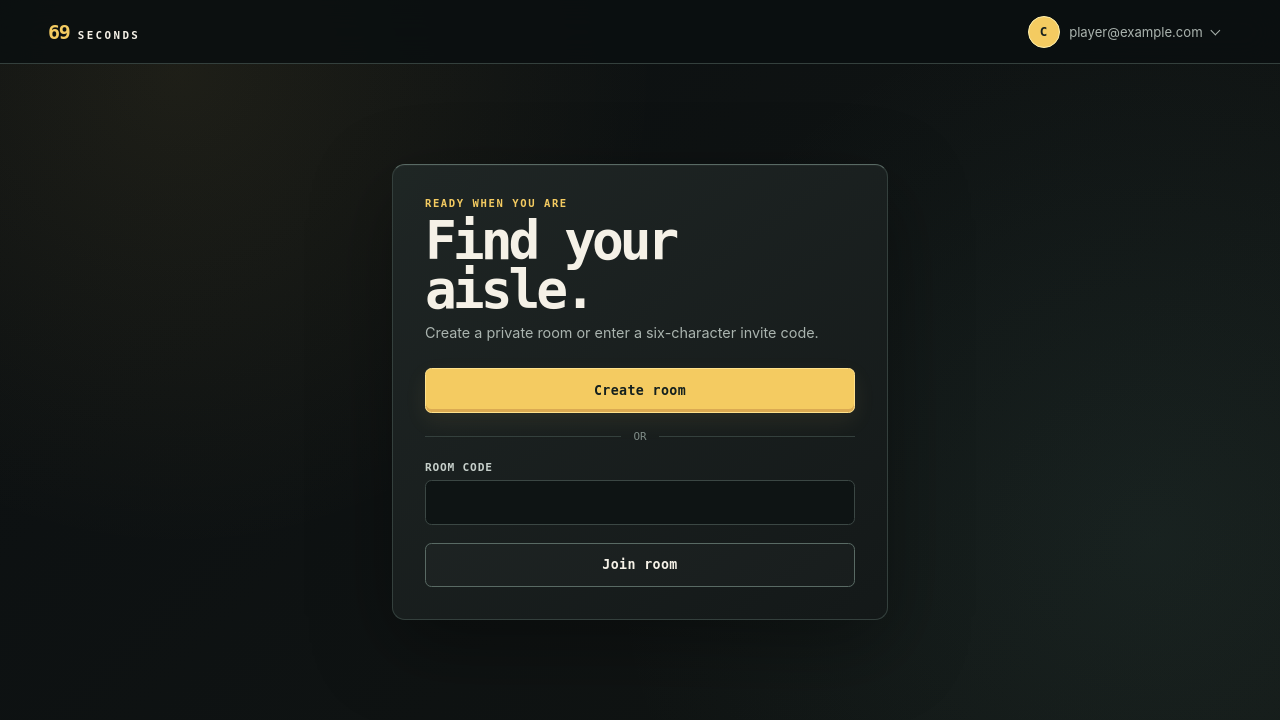
authentication application › logs out from the account menu
Expected: the button "Create room" is shown, [425, 368, 855, 413]
Click the button with aria-label "Account menu". click: point(1126, 32)
box: [1021, 9, 1232, 54]
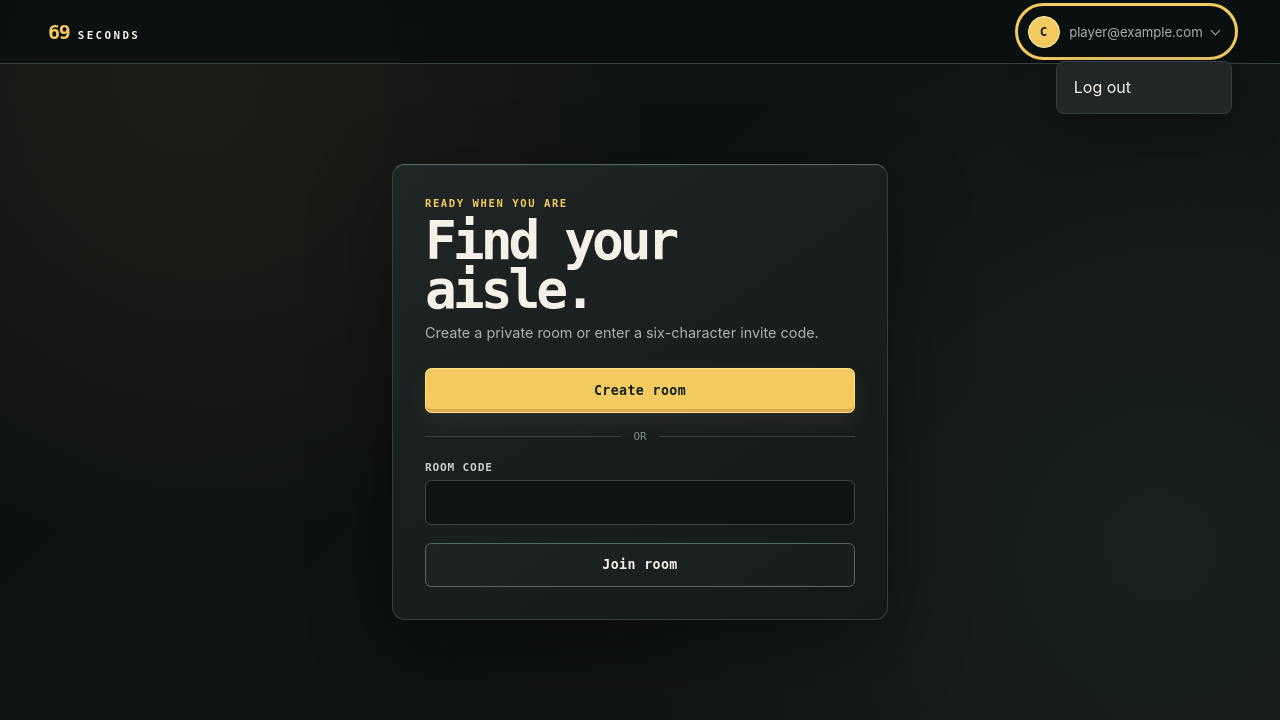
Click the menu item "Log out". click: point(1144, 88)
box: [1063, 68, 1225, 107]
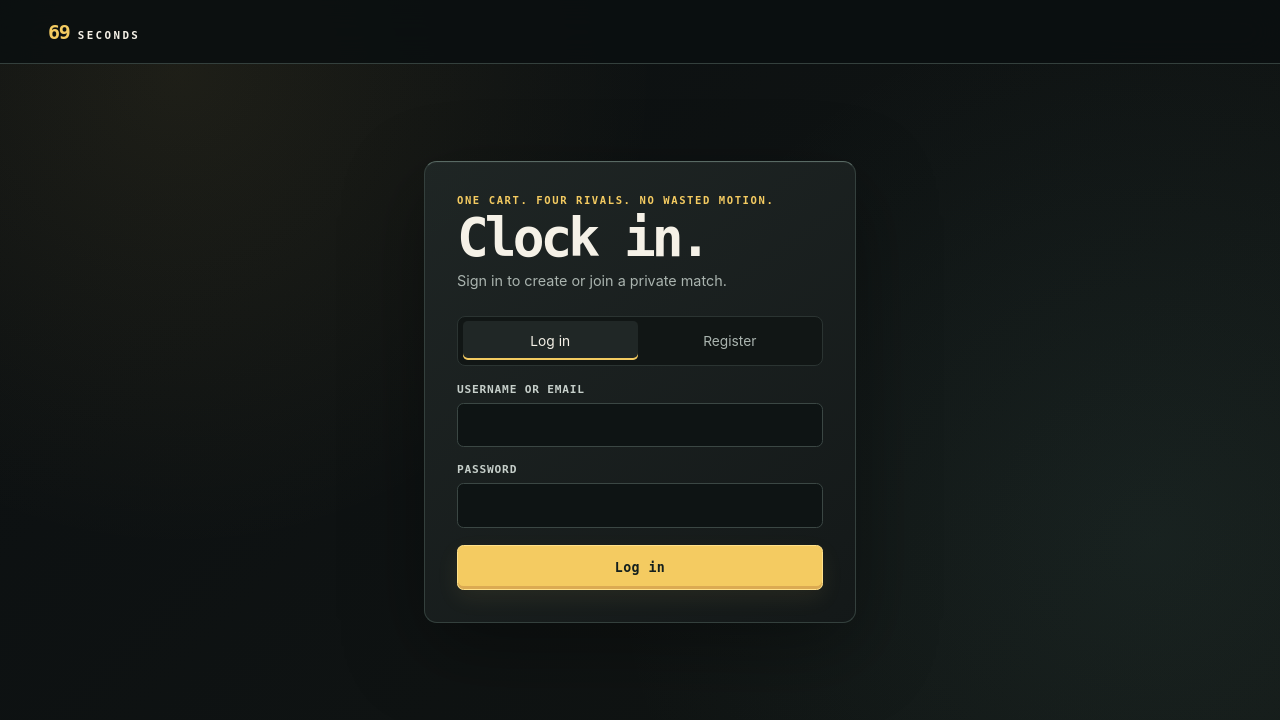
Expected: the tab "Log in" is shown, [463, 321, 638, 360]
